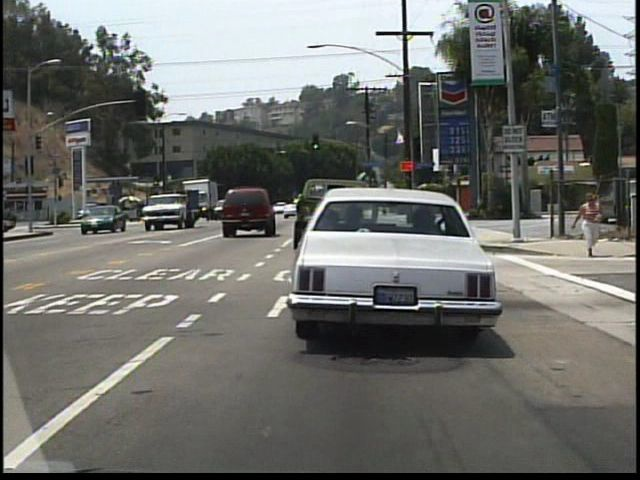person: (580, 189, 602, 257)
